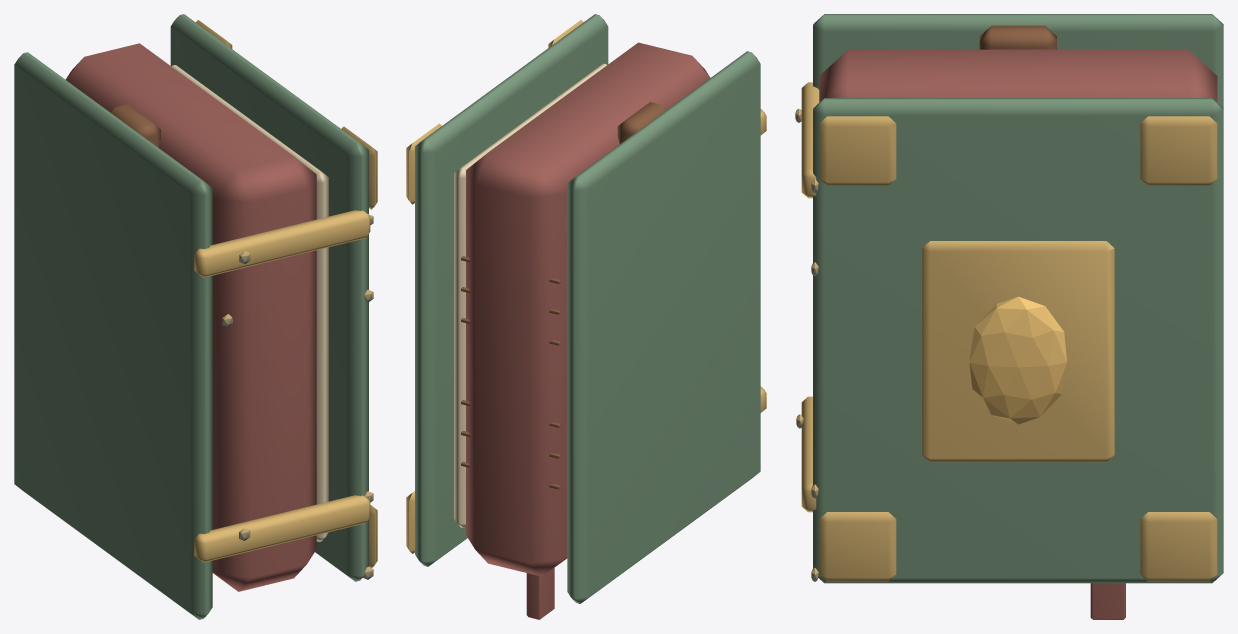
Rendered from grimorio_verde_t2.glb.
3 renders of one model, left to right at view 1: azimuth 30°, elevation 25°; view 2: azimuth 150°, elevation 25°; view 3: azimuth 270°, elevation 25°, orthographic. The views are drawn at different scales.
Visible parts, largest first — view 1: grimorio_verde_t2_finished; view 2: grimorio_verde_t2_finished; view 3: grimorio_verde_t2_finished.
Boxes of the visible parts, x1,y1,x2,y2 form: grimorio_verde_t2_finished: (14,14,377,619); grimorio_verde_t2_finished: (406,14,766,619); grimorio_verde_t2_finished: (795,14,1223,619).
Bounding box in the file's own units: 0.31 × 0.6876 × 0.4807.
Materials: 7 (1 with a texture image).
